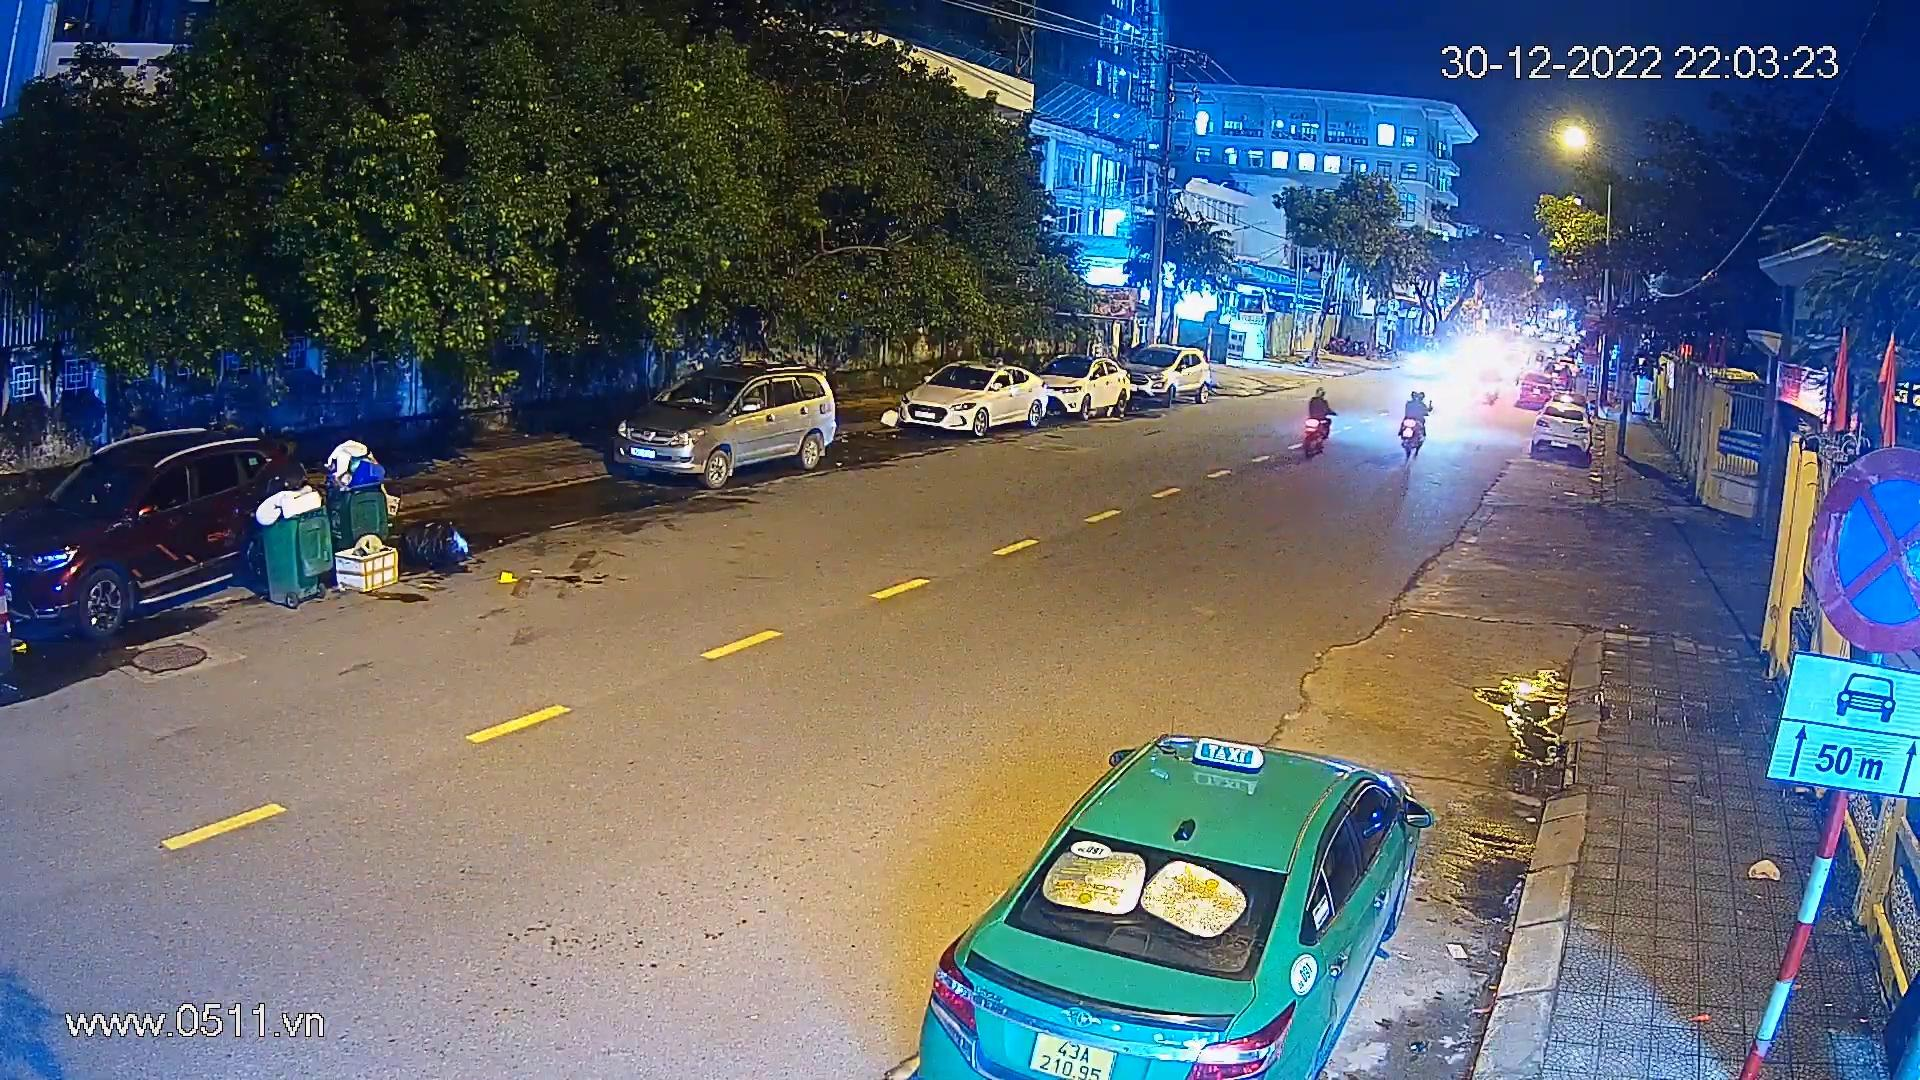car: (906, 731, 1437, 1080), (0, 406, 335, 673), (601, 356, 836, 492), (893, 357, 1048, 438), (1025, 356, 1138, 421), (1117, 340, 1218, 405), (1531, 406, 1590, 476), (1509, 373, 1568, 409)
motorcycle: (1295, 382, 1337, 465), (1395, 386, 1436, 456)
